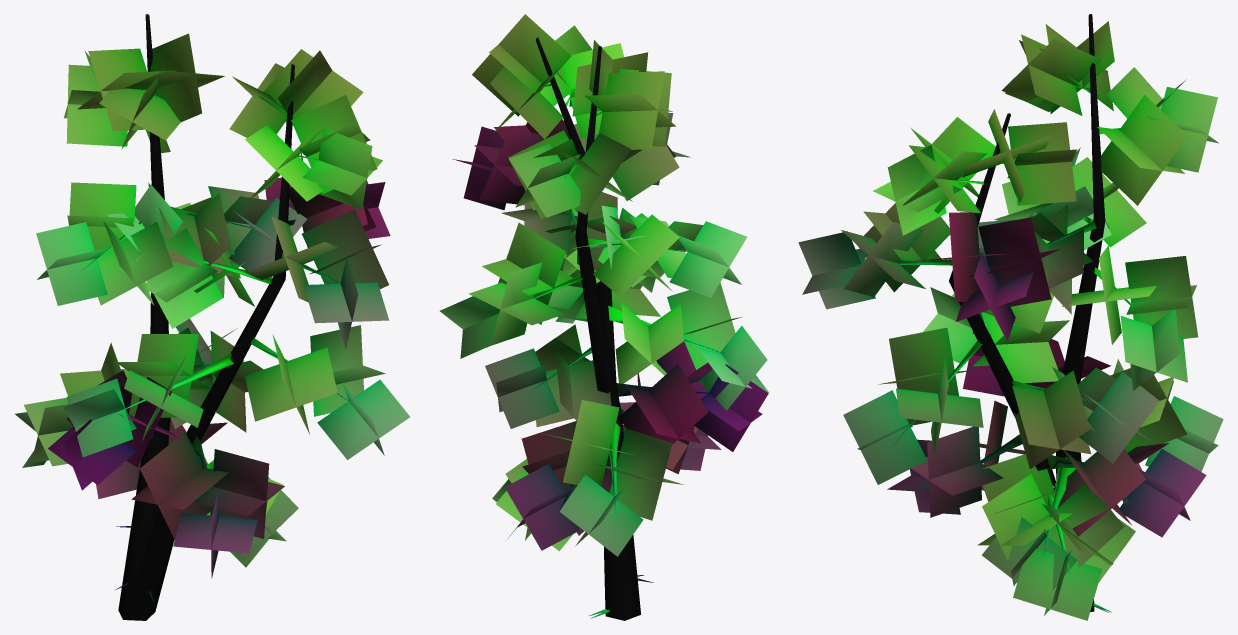
Rendered from URP_P7_Tree_13_LOD_3.fbx.
The picture shows the model from 3 angles, left to right: view 1: azimuth 30°, elevation 25°; view 2: azimuth 150°, elevation 25°; view 3: azimuth 270°, elevation 25°; orthographic projection. The views are drawn at different scales.
Visible parts, largest first — view 1: Tree_13_LOD_3; view 2: Tree_13_LOD_3; view 3: Tree_13_LOD_3.
Part boxes in pixels (bbox=[...]): Tree_13_LOD_3: bbox=[15, 14, 409, 620]; Tree_13_LOD_3: bbox=[440, 14, 768, 620]; Tree_13_LOD_3: bbox=[798, 14, 1223, 620].
Size of the model in its own units: 280 by 499 by 320.
